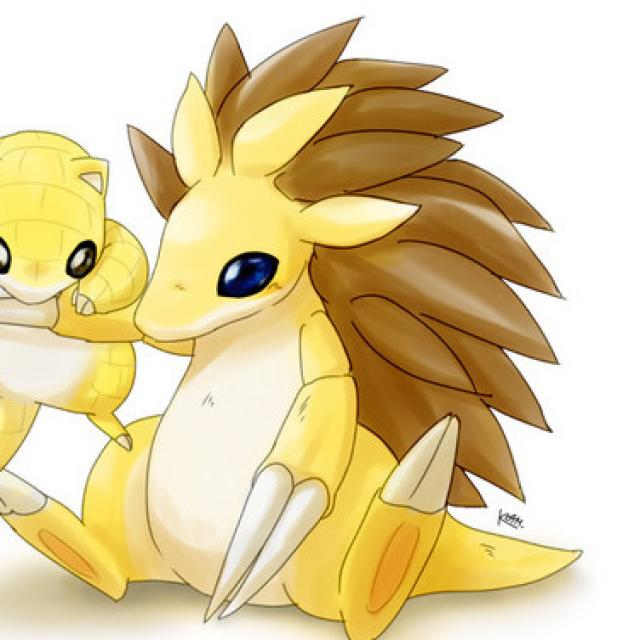Sandshrew: (2, 114, 139, 438)
Sandslash: (125, 85, 465, 629)
